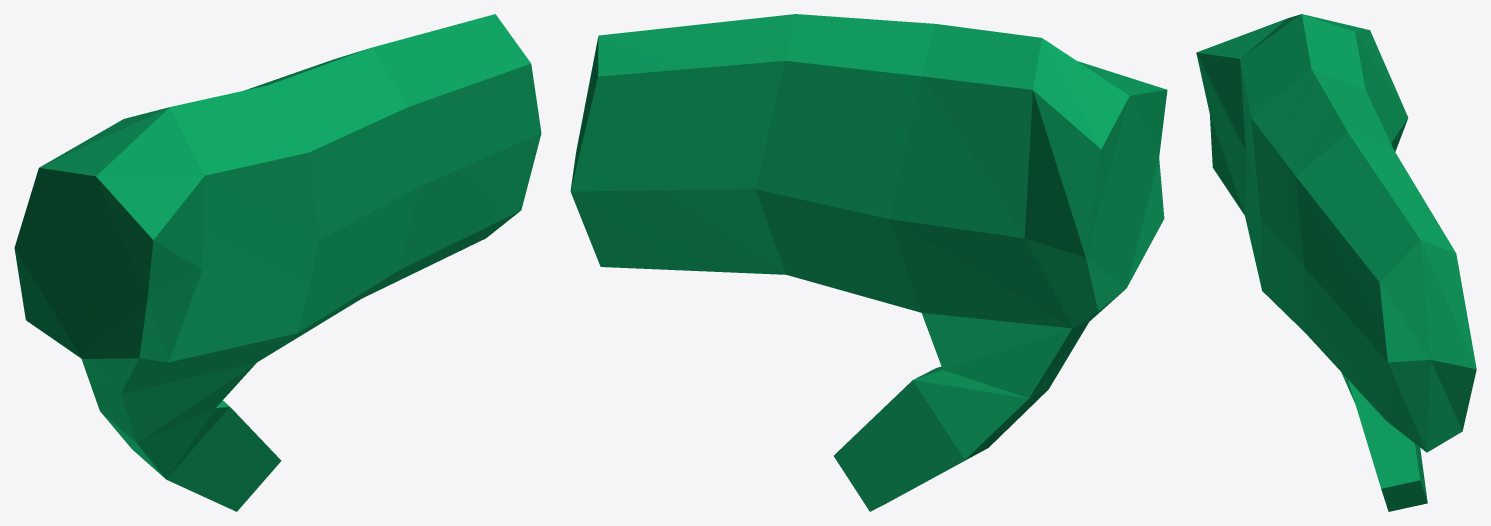
Rendered from bea_left_hand.obj.
The picture shows the model from 3 angles, left to right: view 1: azimuth 30°, elevation 25°; view 2: azimuth 150°, elevation 25°; view 3: azimuth 270°, elevation 25°; orthographic projection. The views are drawn at different scales.
Parts seen in each view (by area): view 1: LeftHand.001_Hand.003; view 2: LeftHand.001_Hand.003; view 3: LeftHand.001_Hand.003.
Boxes of the visible parts, x1,y1,x2,y2 form: LeftHand.001_Hand.003: [14, 14, 541, 511]; LeftHand.001_Hand.003: [570, 14, 1167, 511]; LeftHand.001_Hand.003: [1196, 14, 1476, 511].
Size of the model in its own units: 0.2299 by 0.1978 by 0.1128.
